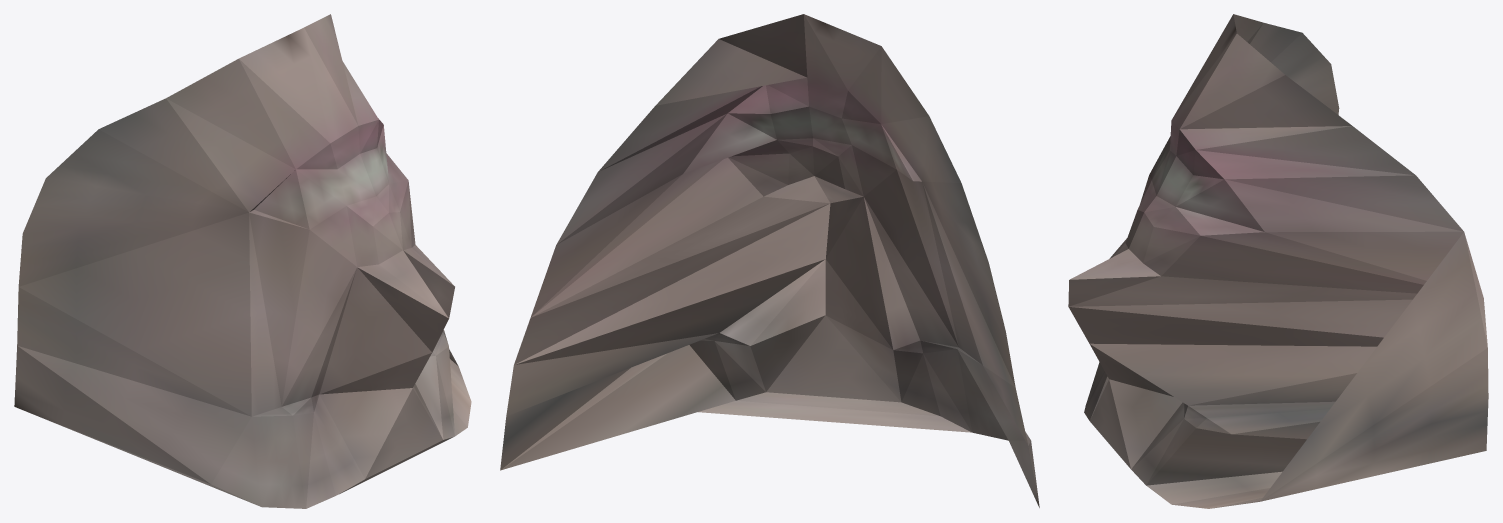
Rendered from fake_14943.obj.
3 views of the same model, side by side, from view 1: azimuth 30°, elevation 25°; view 2: azimuth 150°, elevation 25°; view 3: azimuth 270°, elevation 25° (orthographic). The views are drawn at different scales.
Bounding box in the file's own units: 130 × 122 × 114.
